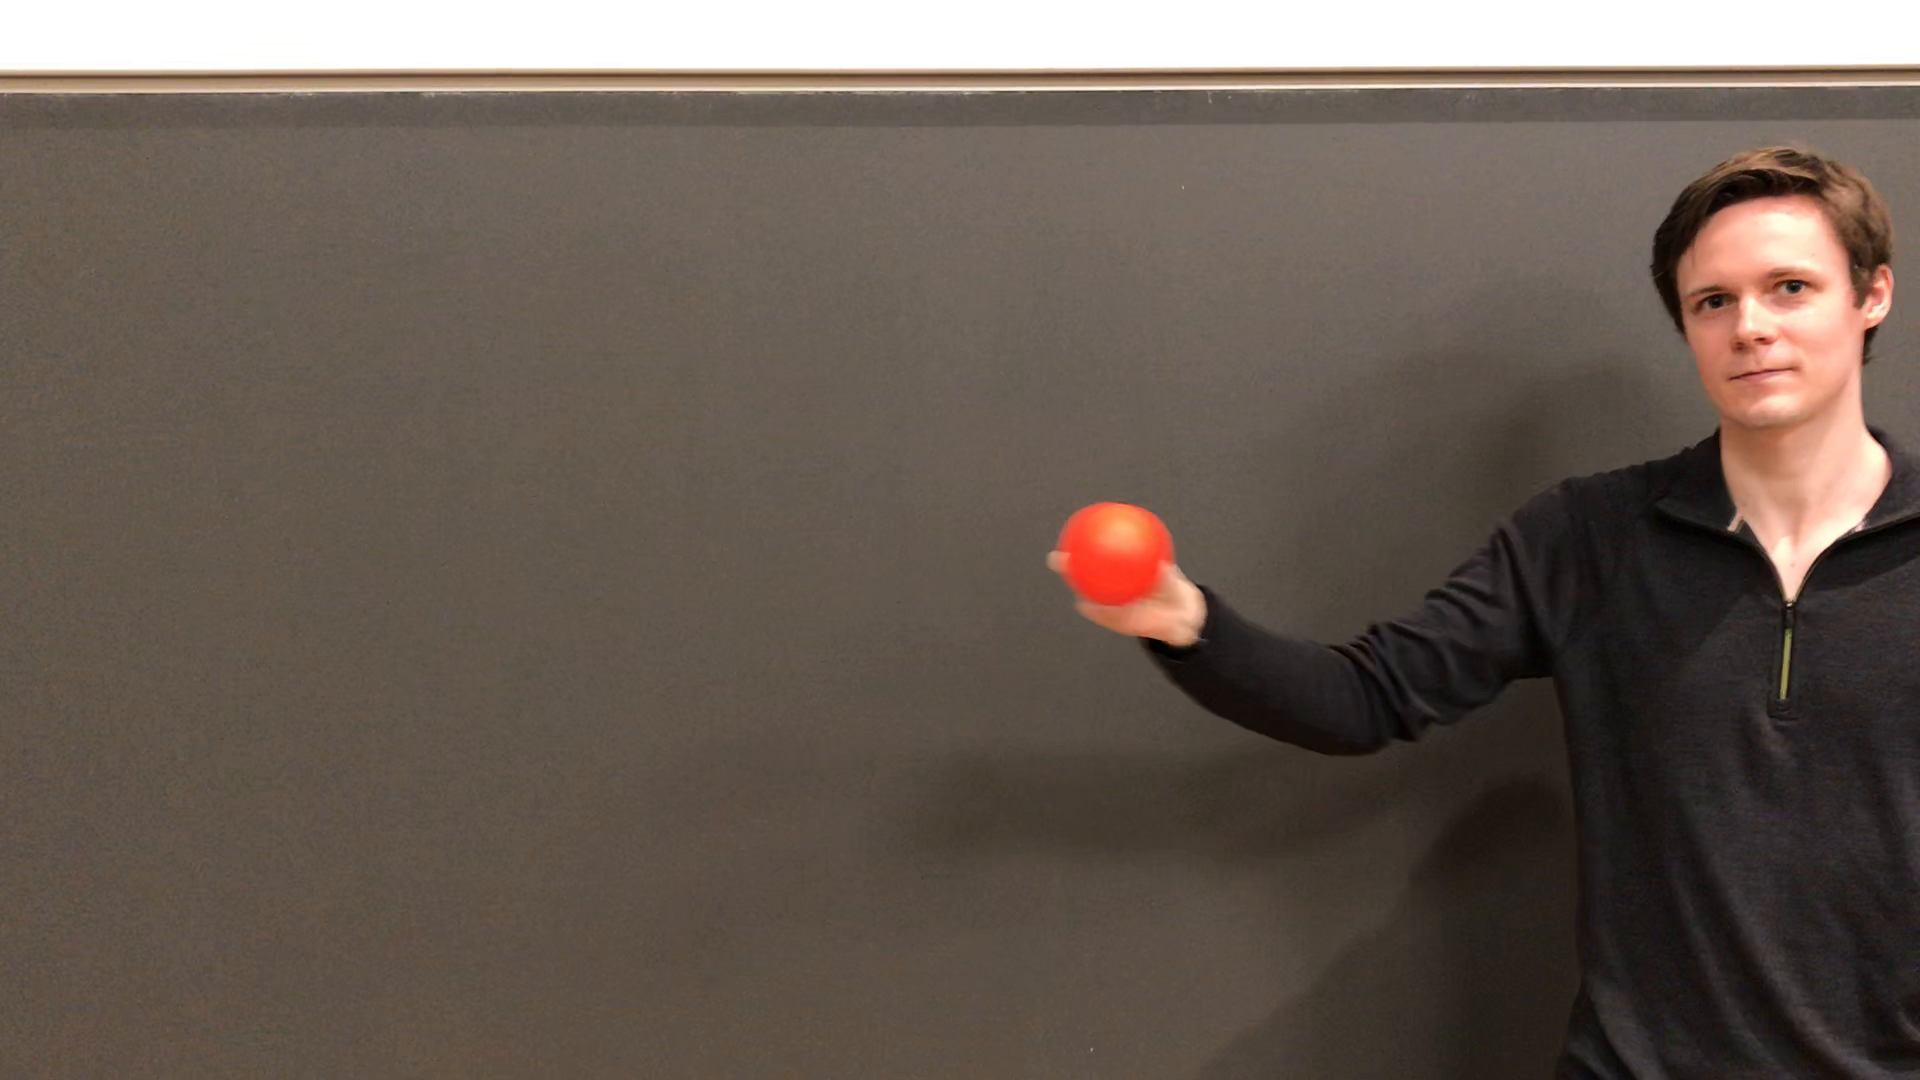Ball: (1062, 500, 1180, 603)
